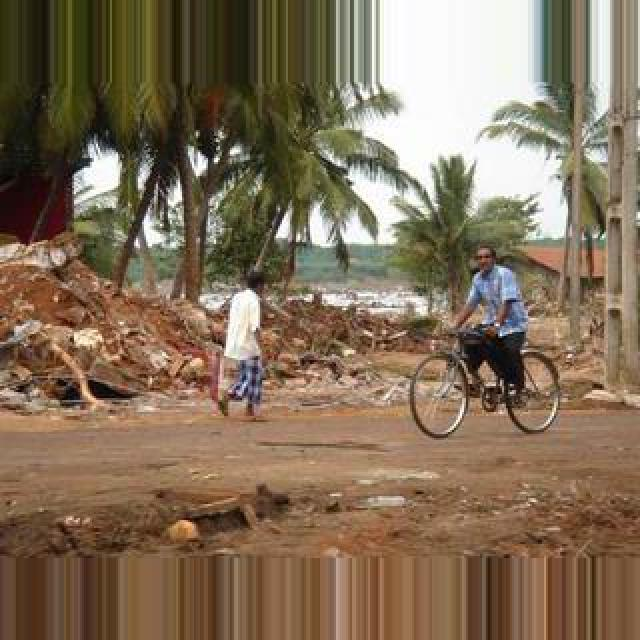MC-Bike: (450, 244, 530, 404), (222, 270, 266, 416)
Person: (407, 327, 563, 439)
